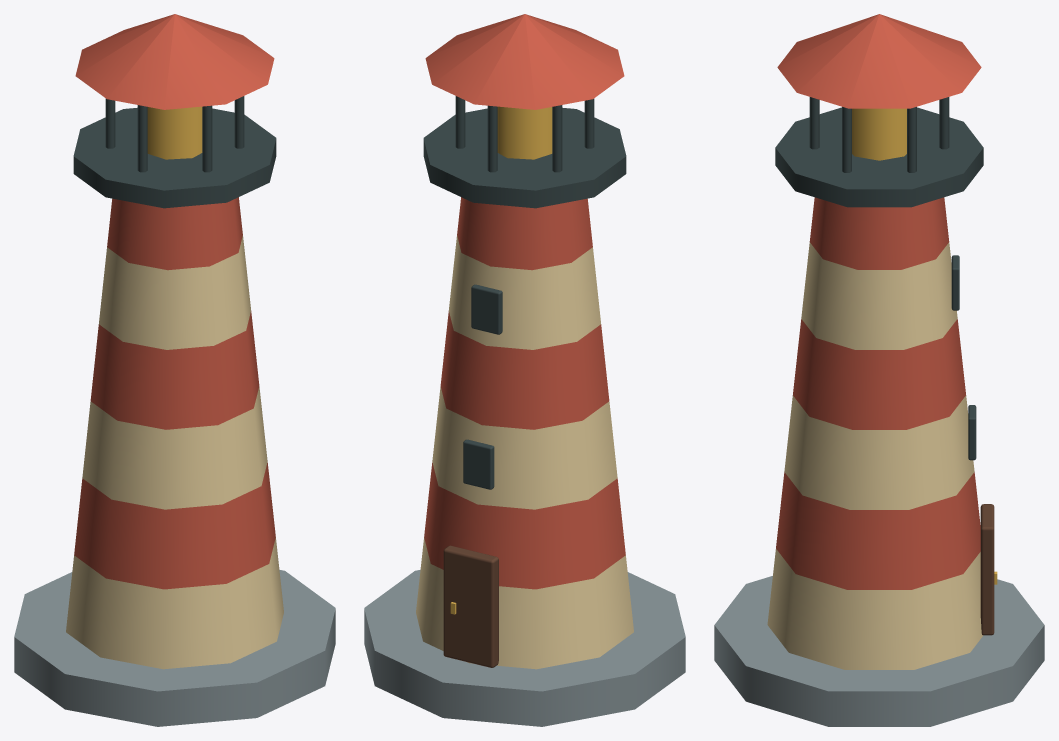
The model's file is striped-lighthouse.glb.
3 renders of one model, left to right at view 1: azimuth 30°, elevation 25°; view 2: azimuth 150°, elevation 25°; view 3: azimuth 270°, elevation 25°, orthographic.
Visible parts, largest first — view 1: foundation, tower-band-0, tower-band-1, tower-band-2, roof, tower-band-3, gallery, tower-band-4, tower-band-5, lamp, lantern-post-5, lantern-post-0 (+2 smaller); view 2: foundation, tower-band-1, roof, tower-band-2, tower-band-3, tower-band-0, gallery, tower-band-4, tower-band-5, door, lamp, window-1.28 (+5 smaller); view 3: foundation, tower-band-0, tower-band-1, tower-band-2, roof, tower-band-3, gallery, tower-band-4, tower-band-5, lamp, door, lantern-post-1 (+3 smaller).
Boxes of the visible parts, x1,y1,x2,y2 form: foundation: (14,569,335,726); tower-band-0: (66,537,283,669); tower-band-1: (74,462,275,589); tower-band-2: (82,387,267,509); roof: (75,14,274,109); tower-band-3: (90,311,259,429); gallery: (73,107,276,208); tower-band-4: (99,235,250,349); tower-band-5: (107,197,242,270); lamp: (147,106,202,159); lantern-post-5: (137,105,147,172); lantern-post-0: (202,105,212,172); foundation: (364,569,685,726); tower-band-1: (424,462,625,589); roof: (425,14,624,109); tower-band-2: (432,387,617,509); tower-band-3: (440,311,609,429); tower-band-0: (416,537,633,669); gallery: (423,107,626,208); tower-band-4: (449,235,600,349); tower-band-5: (457,197,592,270); door: (443,545,498,667); lamp: (497,106,552,159); window-1.28: (463,439,494,489); foundation: (714,576,1044,726); tower-band-0: (767,549,983,669); tower-band-1: (776,472,980,589); tower-band-2: (784,395,974,509); roof: (777,14,981,108); tower-band-3: (793,319,965,429); gallery: (775,107,983,207); tower-band-4: (801,242,957,349); tower-band-5: (809,197,949,269); lamp: (852,108,906,160); door: (980,504,994,635); lantern-post-1: (842,107,851,172).
Size of the model in its own units: 1.6 by 3.63 by 1.68.
